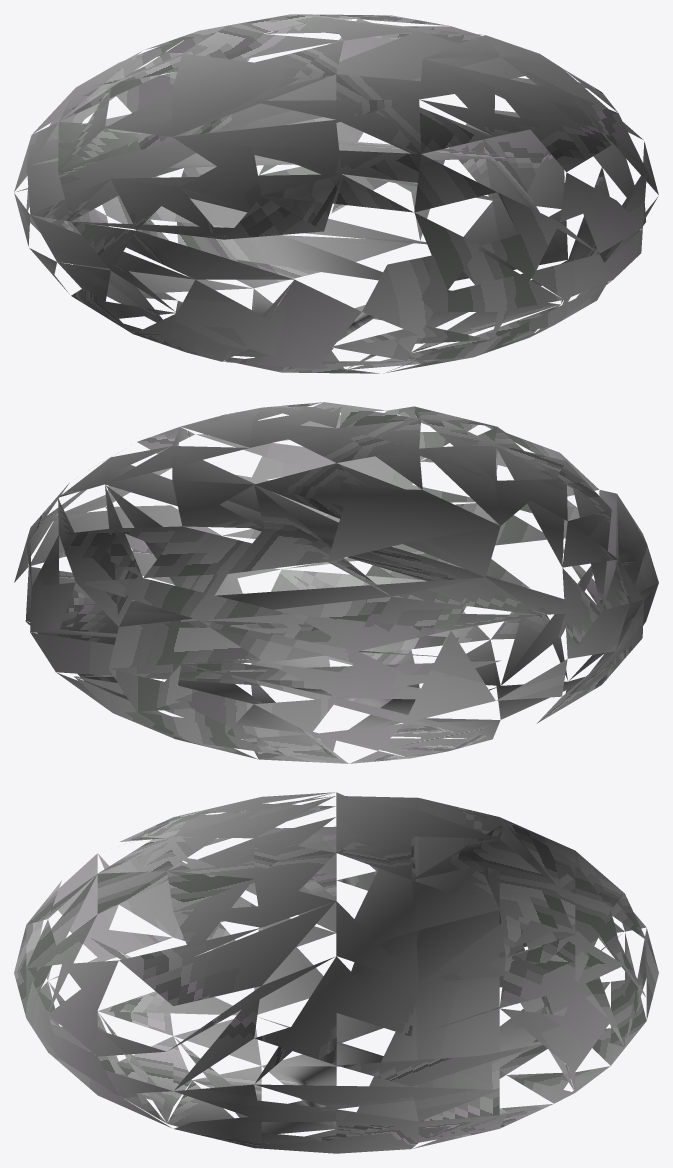
File: smokebomb.glb
The picture shows the model from 3 angles, top to bottom: view 1: azimuth 30°, elevation 25°; view 2: azimuth 150°, elevation 25°; view 3: azimuth 270°, elevation 25°; orthographic projection.
Visible parts, largest first — view 1: weapons/smokebomb_0; view 2: weapons/smokebomb_0; view 3: weapons/smokebomb_0.
Part boxes in pixels (box(x1,y1,x2,y2)): weapons/smokebomb_0: box(14, 14, 658, 373); weapons/smokebomb_0: box(14, 402, 658, 763); weapons/smokebomb_0: box(14, 792, 658, 1153).
Bounding box in the file's own units: 2 × 0.8204 × 2.
Materials: 1 (1 with a texture image).
